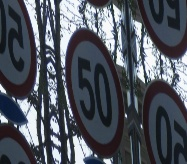Speed limit: (64, 40, 126, 146)
